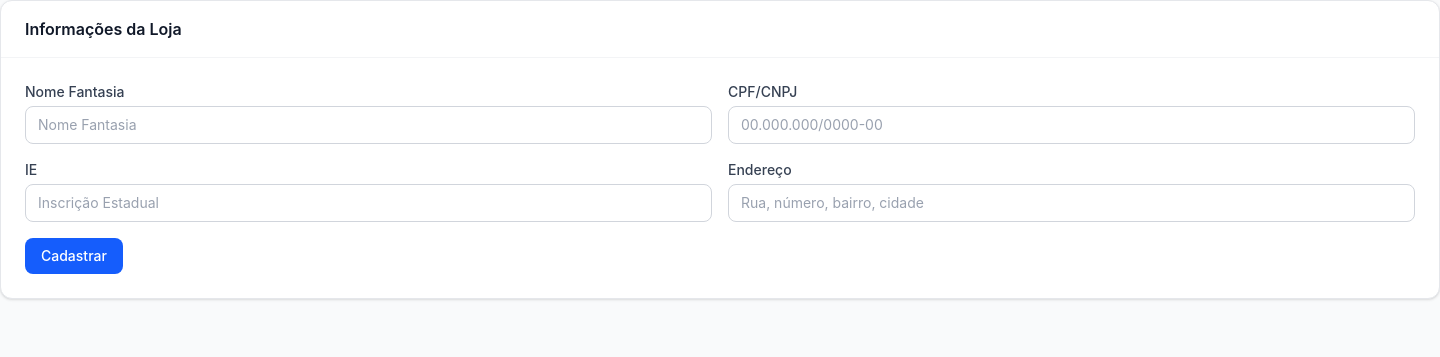
Test: LojaForm › should require nomeFantasia and endereco
This screenshot has width=1440, height=357.
Click the button "Cadastrar" at (74, 256), box [25, 238, 123, 274]
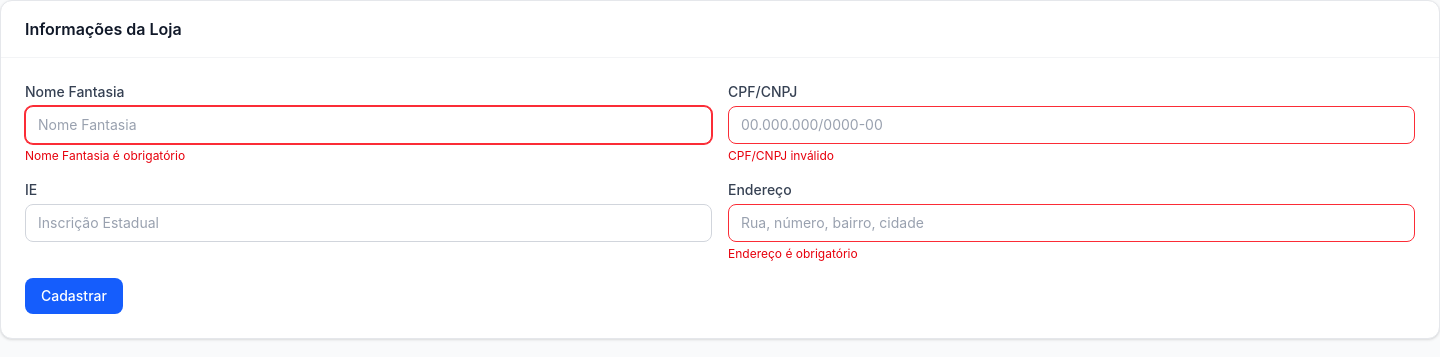
Now the text "Nome Fantasia é obrigatório" is shown, box [25, 148, 185, 163]
Now the text "Endereço é obrigatório" is shown, box [728, 246, 858, 261]
